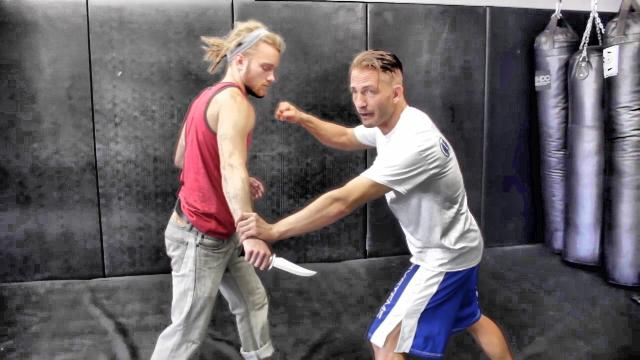knife: (230, 238, 322, 284)
